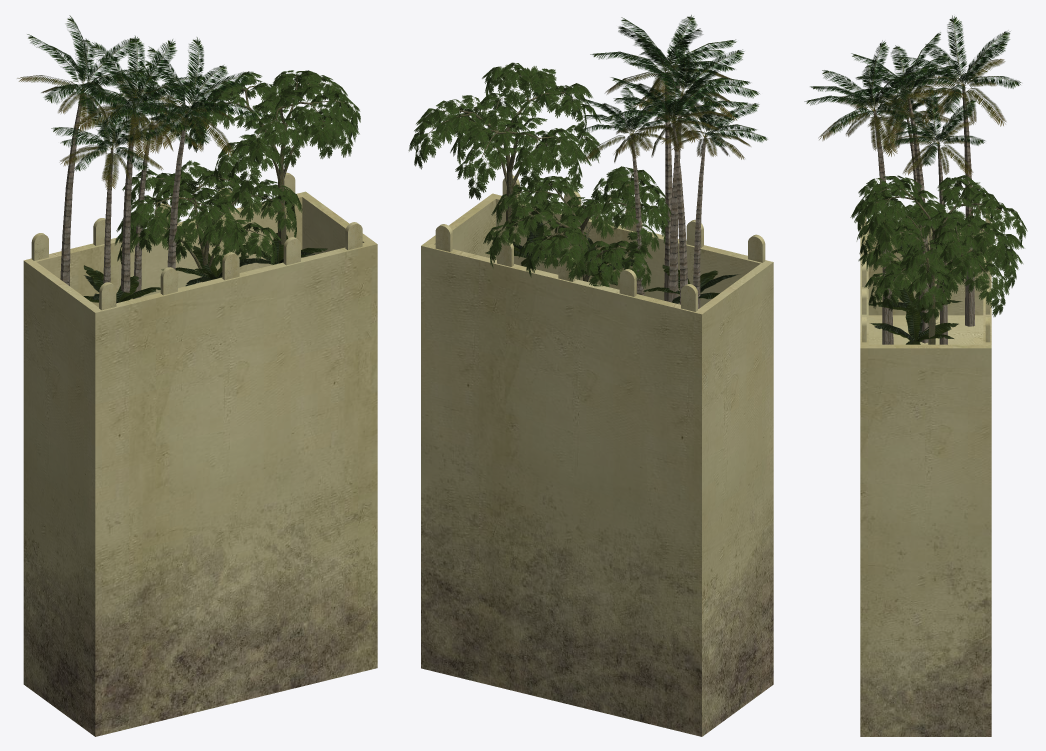
The model's file is medina_cityscape_garden.gltf.
3 views of the same model, side by side, from view 1: azimuth 30°, elevation 25°; view 2: azimuth 150°, elevation 25°; view 3: azimuth 270°, elevation 25° (orthographic). The views are drawn at different scales.
Visible parts, largest first — view 1: medina_cityscape_garden; view 2: medina_cityscape_garden; view 3: medina_cityscape_garden.
Boxes of the visible parts, x1,y1,x2,y2 form: medina_cityscape_garden: [17, 15, 377, 736]; medina_cityscape_garden: [408, 15, 773, 736]; medina_cityscape_garden: [804, 15, 1027, 736].
Bounding box in the file's own units: 5.24 × 10.05 × 3.49.
7 materials, 7 textured.
